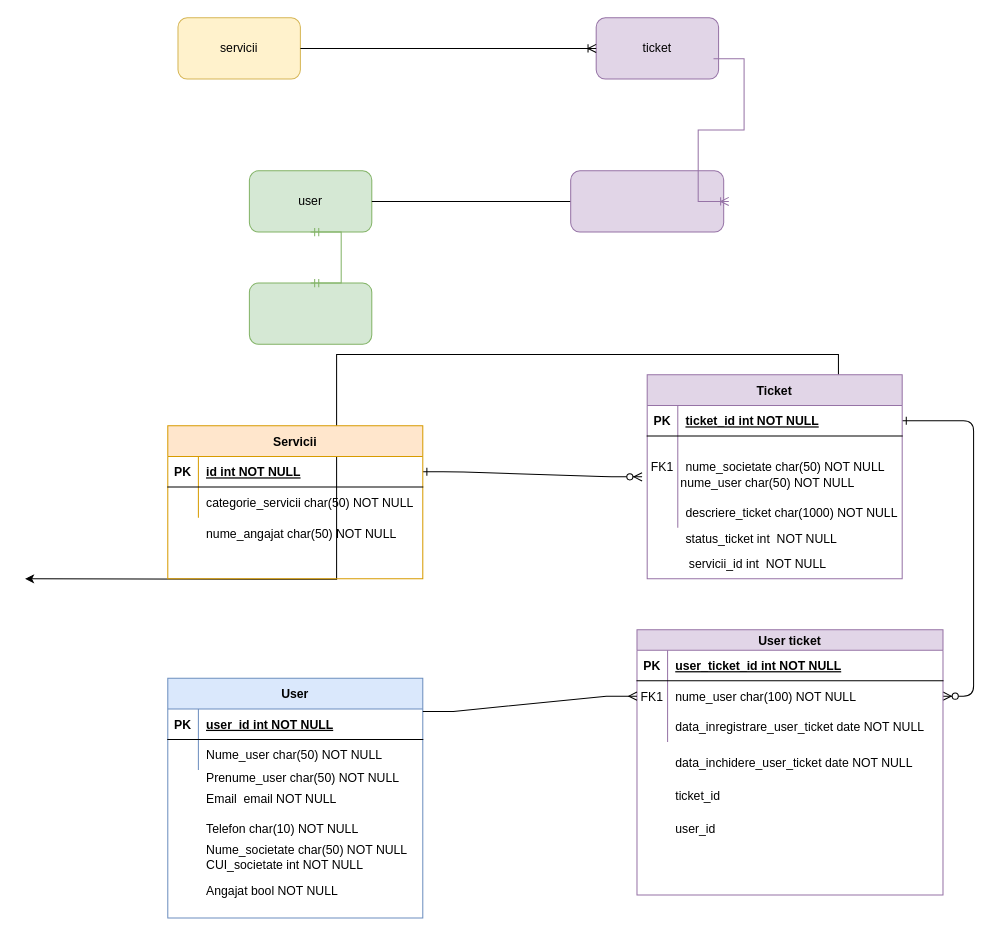
Image size: 1001x936. Some labels were removed from this diagram. Each missing label, with the centre of its shape:
"angajat" goes at (x=310, y=313).
"user_ticket" goes at (x=647, y=201).
